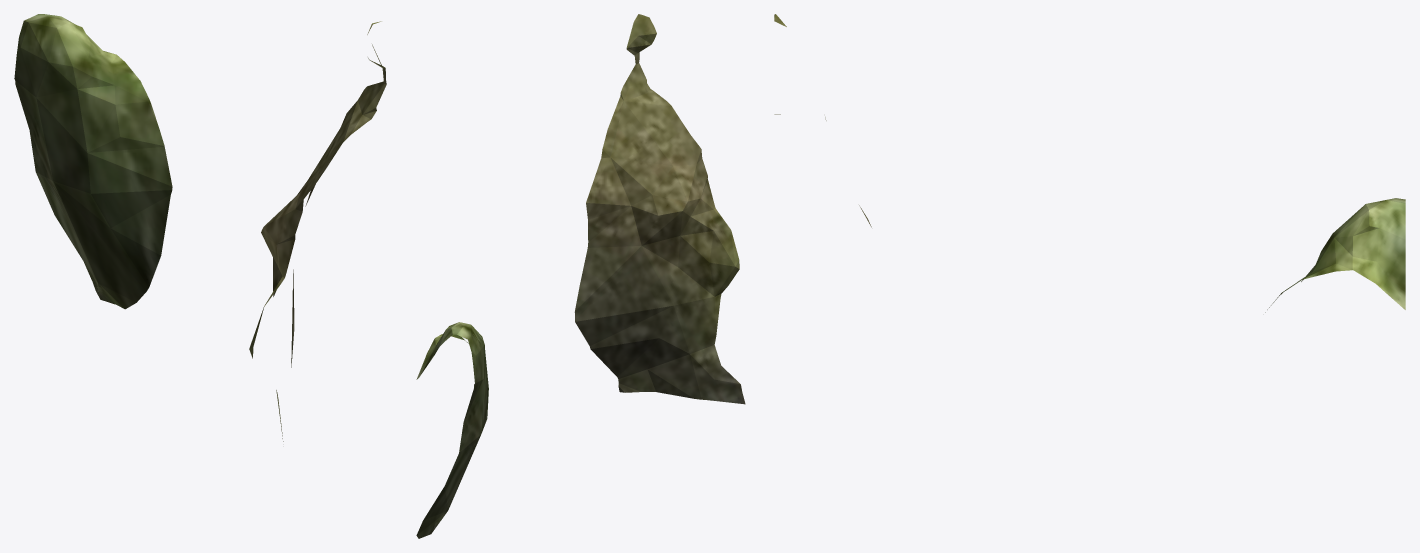
3 renders of one model, left to right at view 1: azimuth 30°, elevation 25°; view 2: azimuth 150°, elevation 25°; view 3: azimuth 270°, elevation 25°, orthographic. The views are drawn at different scales.
Bounding box in the file's own units: 0.8215 × 2.67 × 2.95.
Materials: 1 (1 with a texture image).
